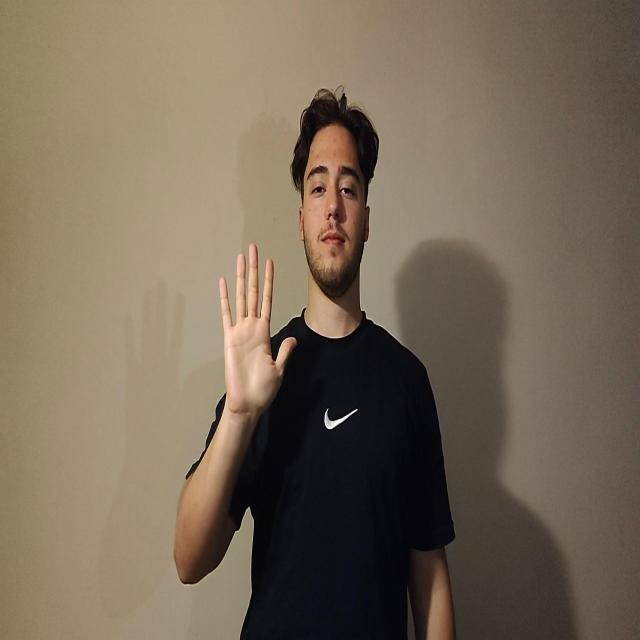hello: (218, 242, 297, 418)
